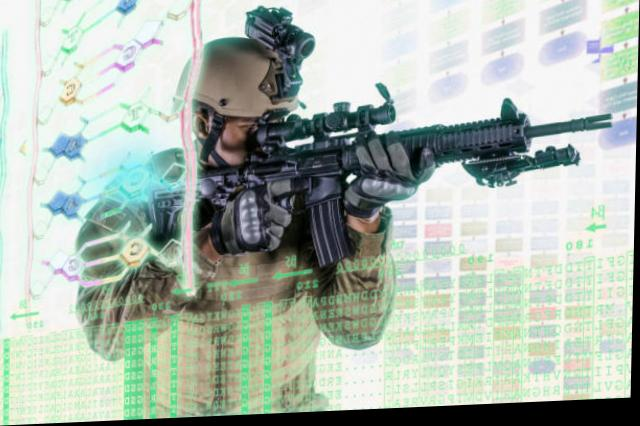other: (75, 29, 389, 418)
